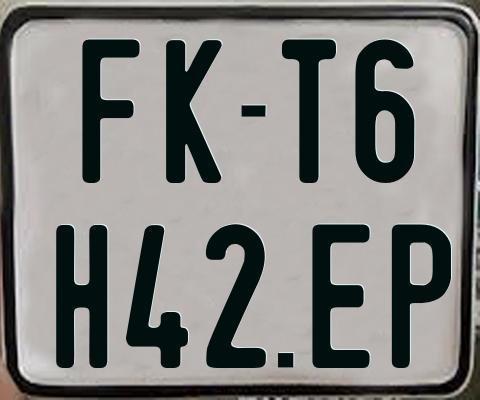2: (206, 221, 270, 371)
4: (126, 225, 193, 370)
6: (352, 39, 413, 186)
E: (309, 221, 372, 369)
F: (80, 39, 138, 187)
H: (53, 224, 105, 370)
K: (165, 37, 224, 186)
P: (389, 223, 454, 371)
T: (282, 36, 342, 182)
